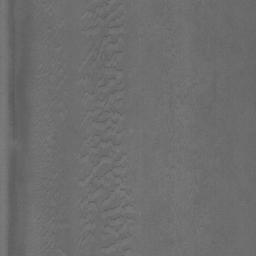Silk spot: (77, 0, 145, 256), (158, 82, 211, 113), (38, 207, 69, 256), (160, 3, 177, 75)
